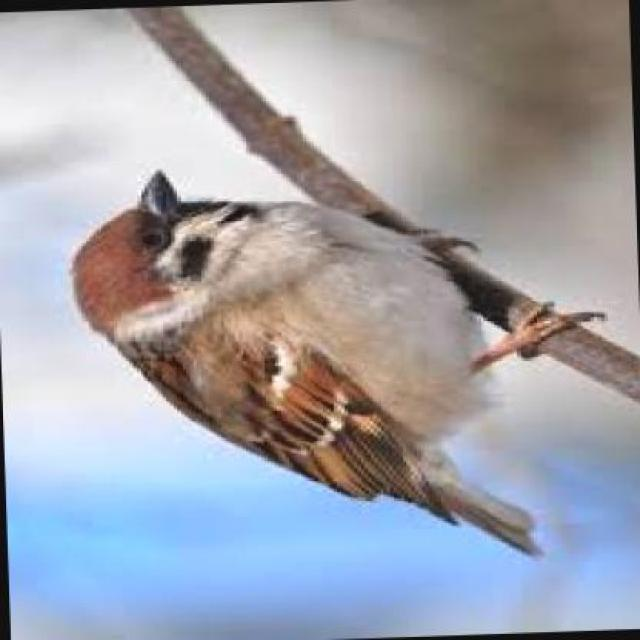Bird: (66, 160, 615, 564)
